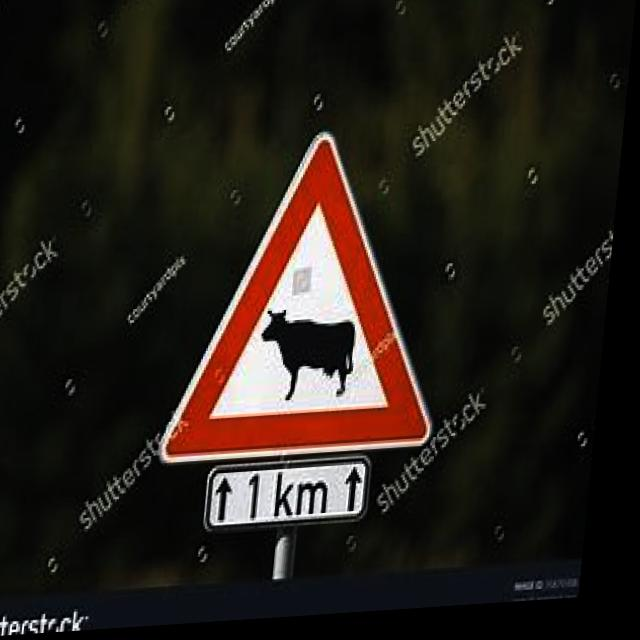CATTLE: (173, 130, 463, 468)
